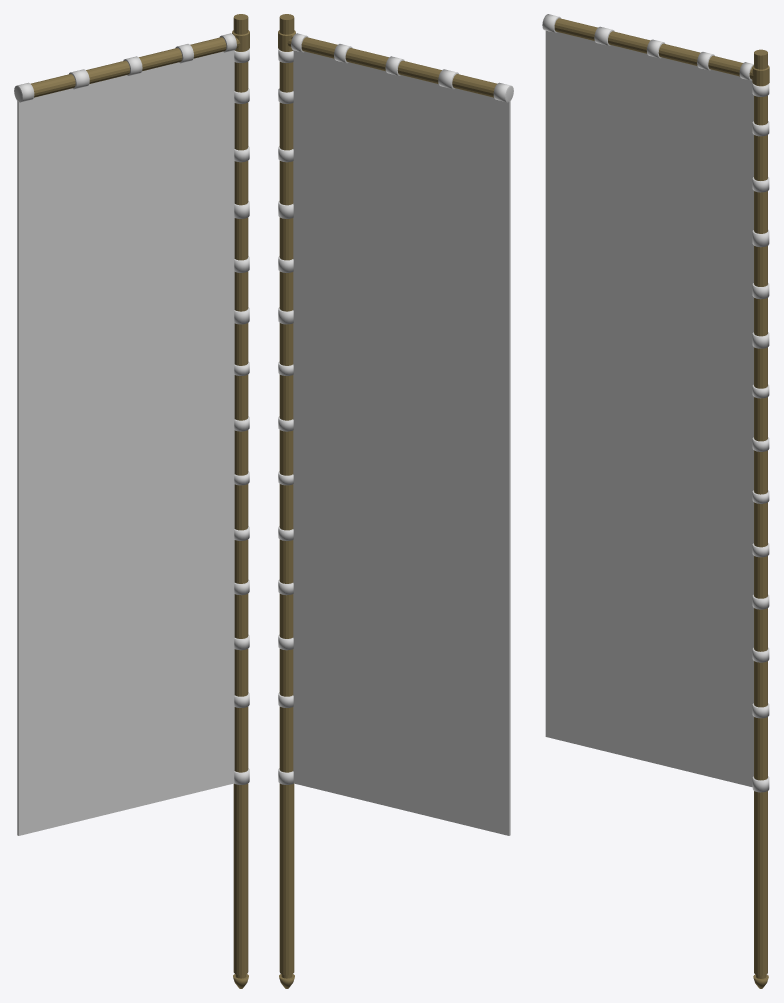
File: Hat_hata-jirushi.fbx
The picture shows the model from 3 angles, left to right: view 1: azimuth 30°, elevation 25°; view 2: azimuth 150°, elevation 25°; view 3: azimuth 330°, elevation 25°; orthographic projection. The views are drawn at different scales.
Visible parts, largest first — view 1: hata-jirushi; view 2: hata-jirushi; view 3: hata-jirushi.
Boxes of the visible parts, bbox=[...] form: hata-jirushi: bbox=[14, 14, 249, 988]; hata-jirushi: bbox=[278, 14, 513, 988]; hata-jirushi: bbox=[542, 14, 769, 988].
Bounding box in the file's own units: 176 × 708 × 11.86.
